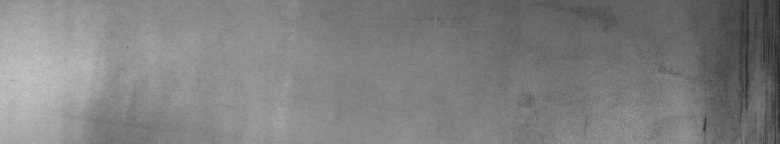ka: (654, 4, 776, 136)
